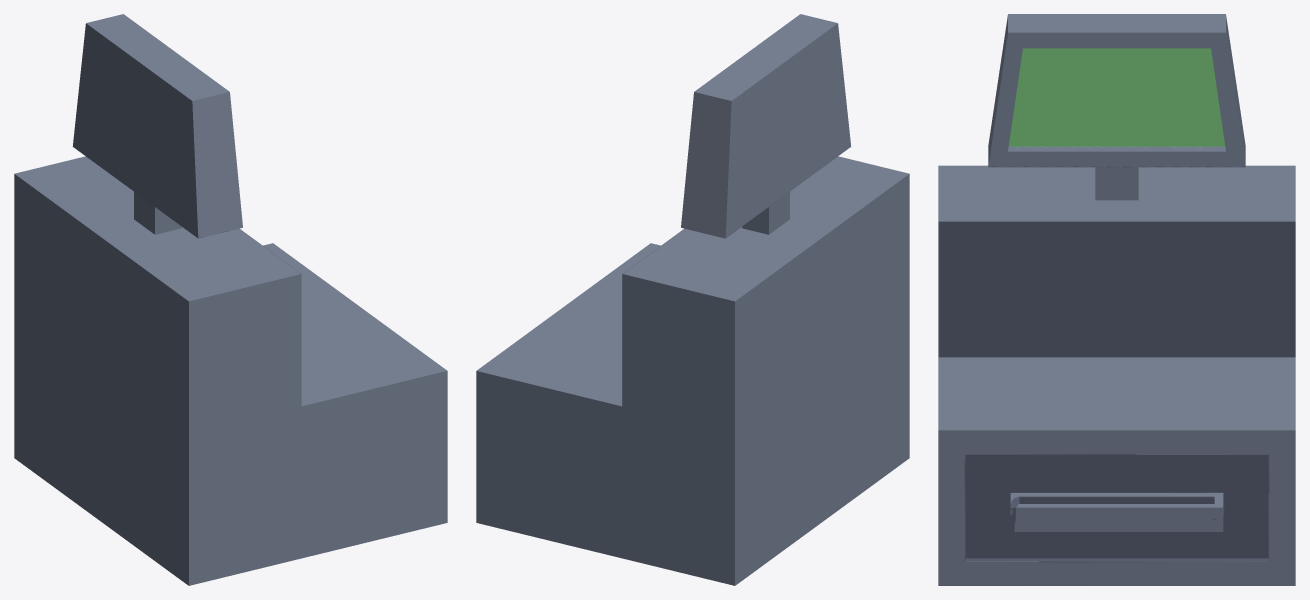
The model's file is MesinKasir.fbx.
3 views of the same model, side by side, from view 1: azimuth 30°, elevation 25°; view 2: azimuth 150°, elevation 25°; view 3: azimuth 270°, elevation 25° (orthographic). The views are drawn at different scales.
Visible parts, largest first — view 1: MesinKasir; view 2: MesinKasir; view 3: MesinKasir.
Boxes of the visible parts, x1,y1,x2,y2 form: MesinKasir: (14,14,447,585); MesinKasir: (476,14,909,585); MesinKasir: (938,14,1295,585).
Size of the model in its own units: 97.89 by 149 by 105.
1 material, 1 textured.
